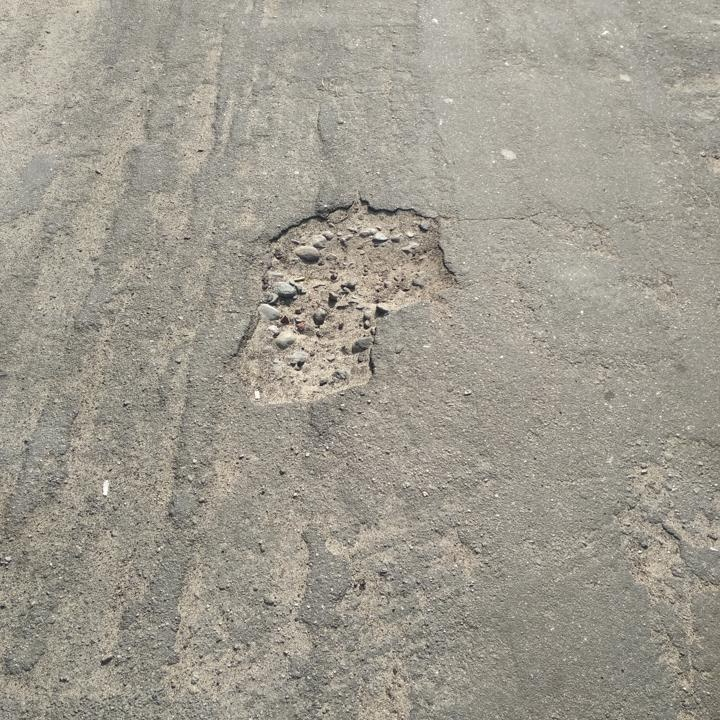pothole: (225, 193, 462, 412)
